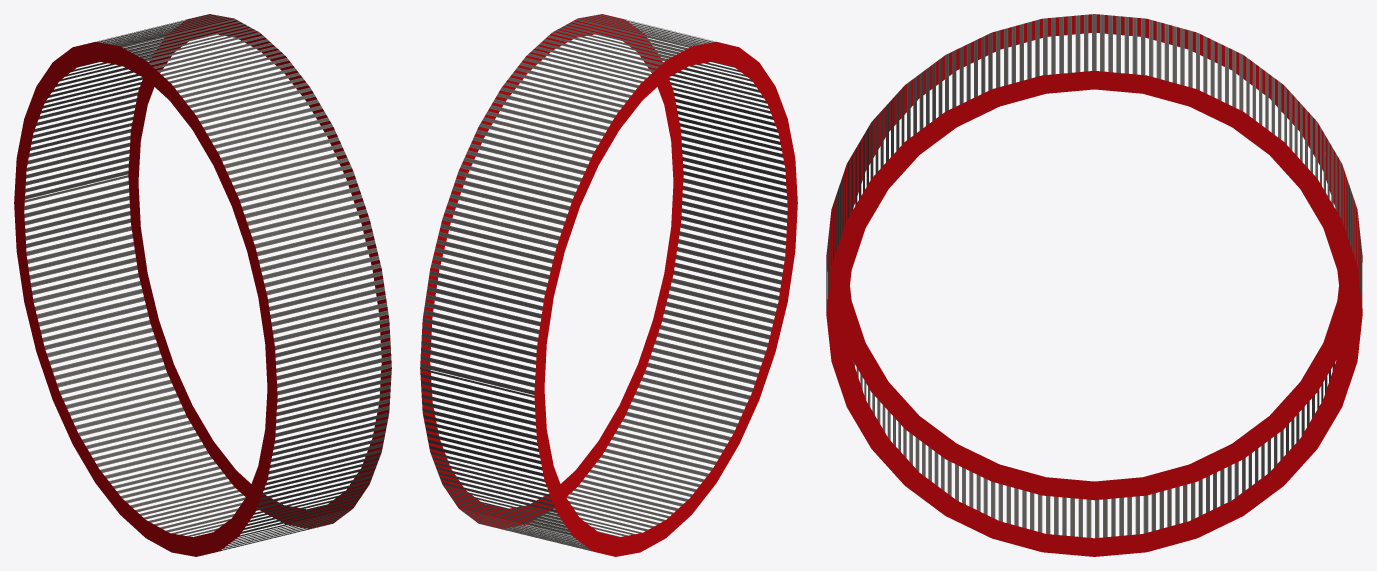
Rendered from wheel.fbx.
3 renders of one model, left to right at view 1: azimuth 30°, elevation 25°; view 2: azimuth 150°, elevation 25°; view 3: azimuth 270°, elevation 25°, orthographic.
Parts seen in each view (by area): view 1: Wheel; view 2: Wheel; view 3: Wheel.
Part boxes in pixels (x1=…): Wheel: x1=14, y1=14, x2=391, y2=556; Wheel: x1=420, y1=14, x2=797, y2=556; Wheel: x1=826, y1=14, x2=1362, y2=556.
Size of the model in its own units: 2003 by 8000 by 8000.
